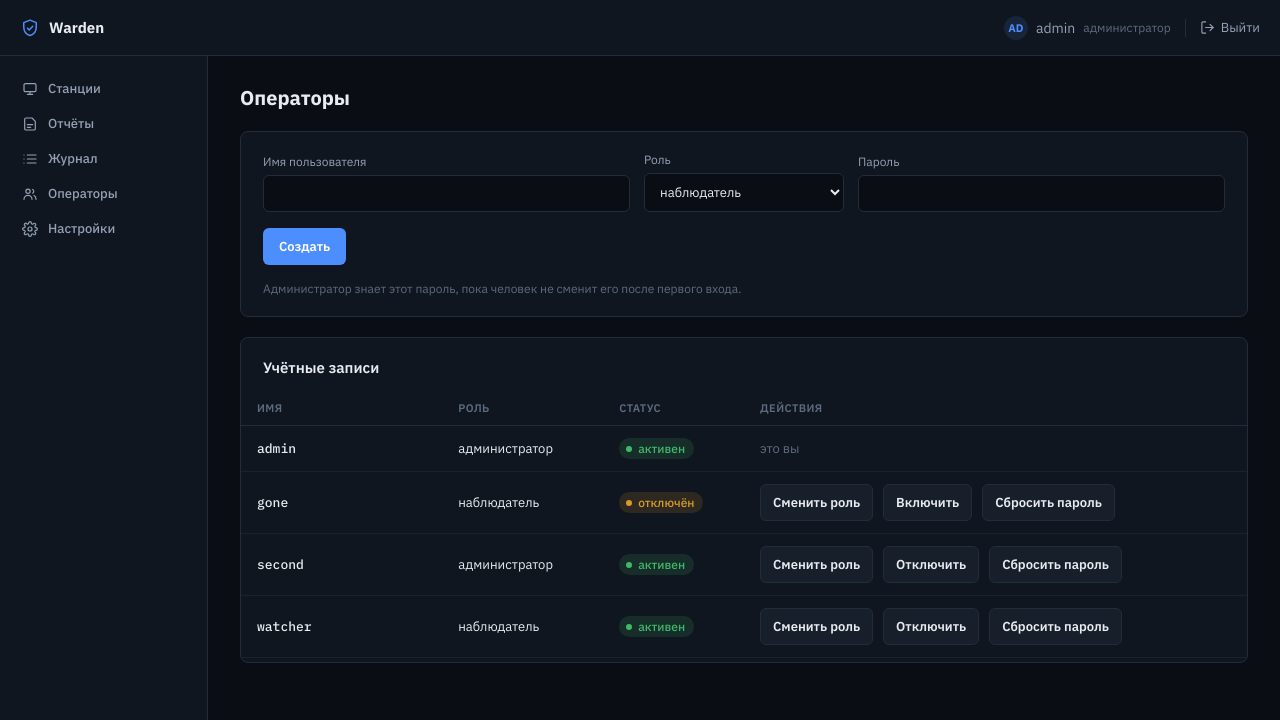
Test: OperatorsPage role › changes a role only after «Применить», sending just the role
The width and height of the screenshot is (1280, 720).
Expected: the row that starts with "watcher" is shown, x1=241 y1=596 x2=1247 y2=658
Click the button "Сменить роль" in the row of "watcher". click: [817, 626]
box: x1=760 y1=608 x2=873 y2=645
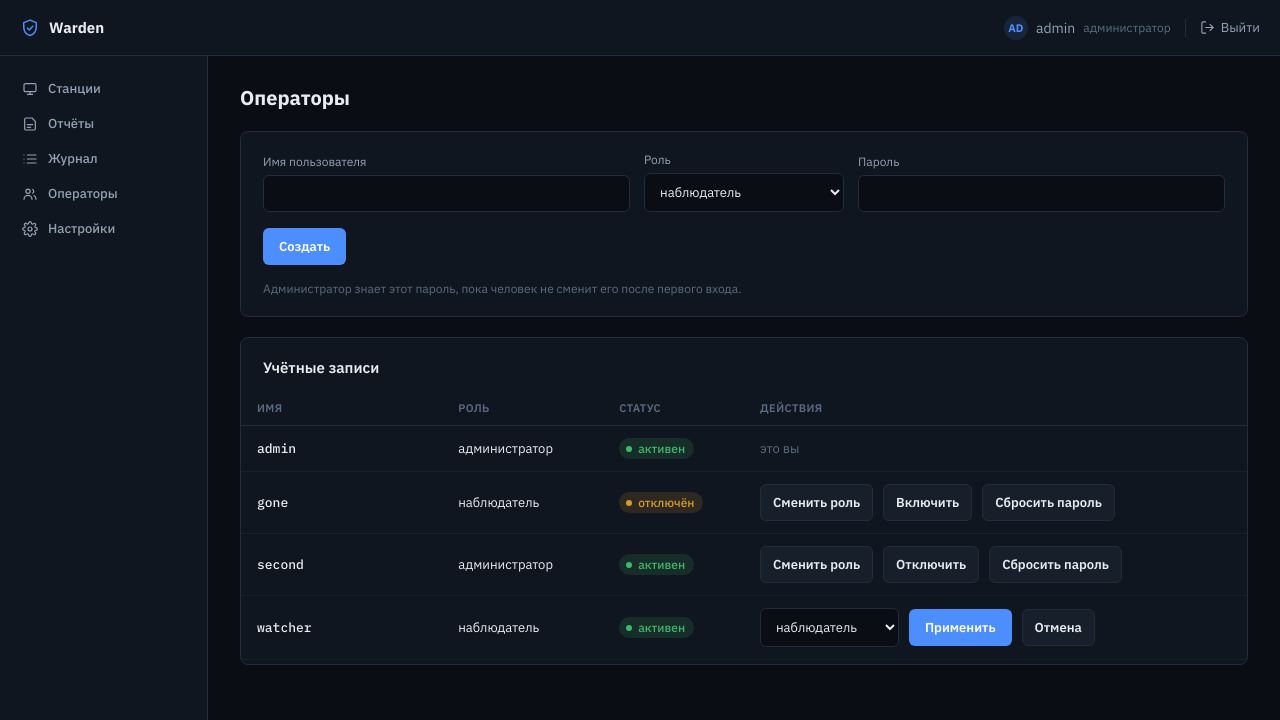
Select "администратор" in the dropdown named "Новая роль". click: [830, 628]
box: x1=760 y1=608 x2=899 y2=647
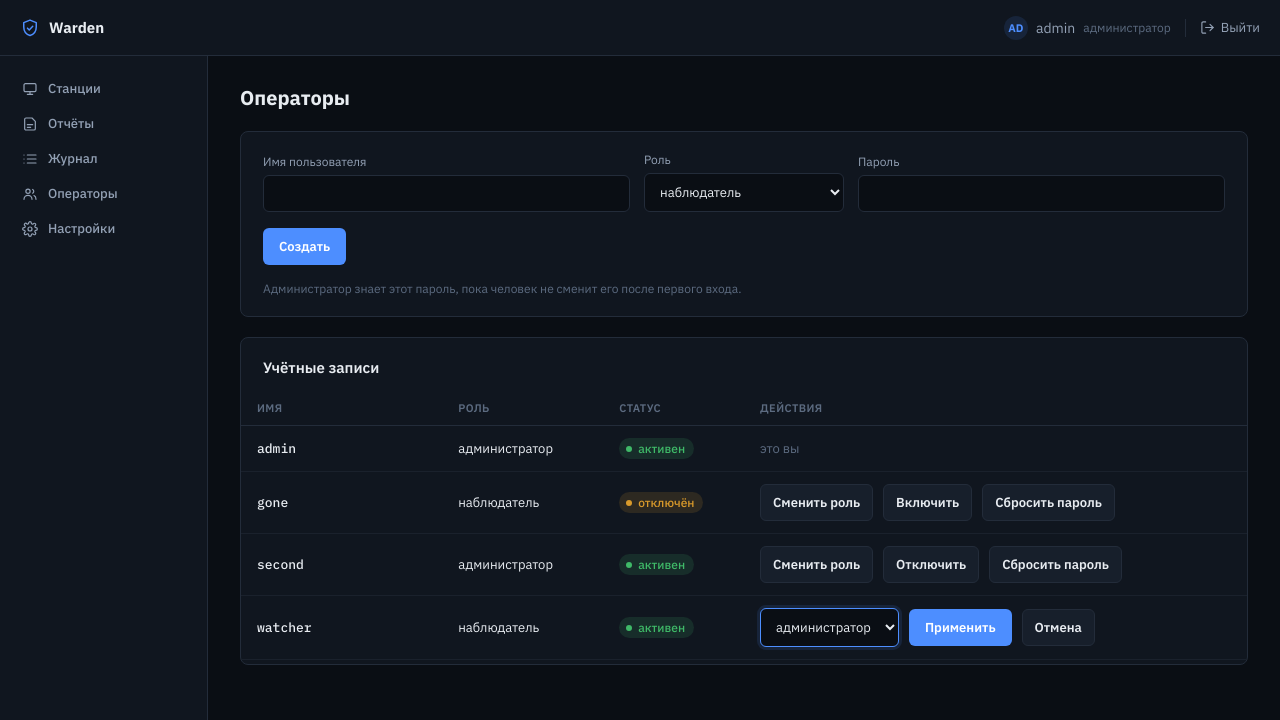
Click the button "Применить". click: [960, 628]
box: x1=909 y1=609 x2=1012 y2=646
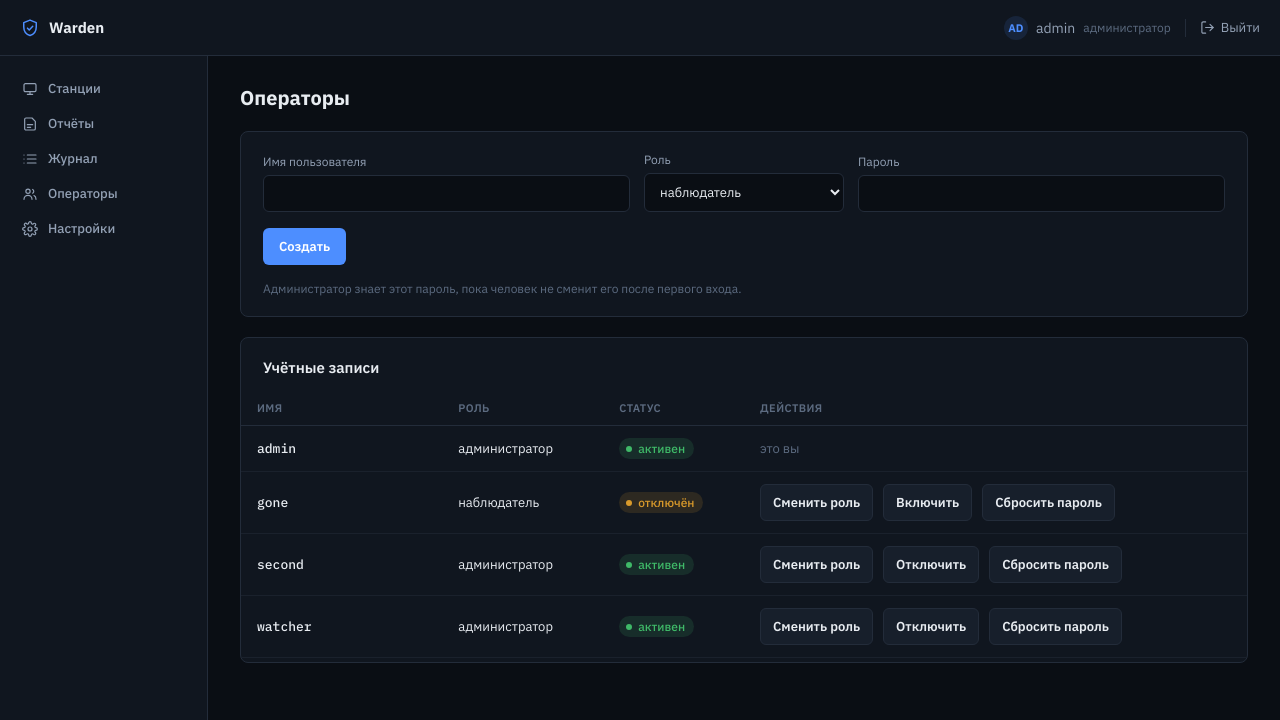
Expected: the row that starts with "watcher" shows "администратор", x1=458 y1=618 x2=553 y2=635
